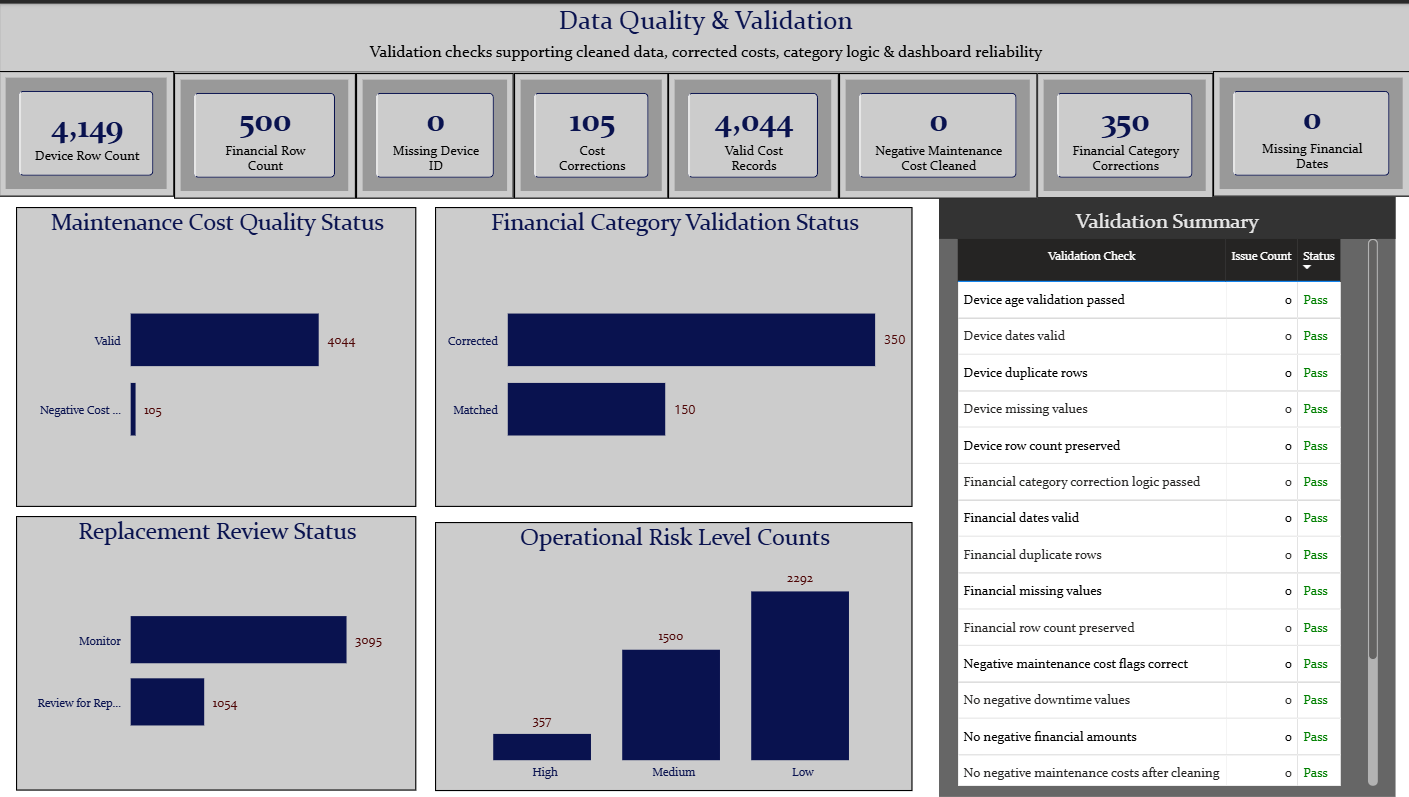

What the dashboard file says about the page in this screenshot:
{"tool":"powerbi","page":{"name":"Data Quality & Validation","canvas":[1280,720],"ordinal":3},"visuals":[{"type":"textbox","title":"Data Quality & Validation","box":[0,0,1280,62.7],"z":0},{"type":"cardVisual","fields":{"Data":["Measures Table.Device Row Count Display"]},"box":[0,62,158.6,113.9],"z":1000},{"type":"cardVisual","fields":{"Data":["Measures Table.Negative Cost Correction"]},"box":[466.7,63,140.3,113.9],"z":2000},{"type":"cardVisual","fields":{"Data":["Measures Table.Financial Row Count Display"]},"box":[158.6,63,164.7,113.9],"z":3000},{"type":"cardVisual","fields":{"Data":["Measures Table.Financial Category Corrections"]},"box":[941.4,63,159.6,113.9],"z":4000},{"type":"clusteredBarChart","title":"Replacement Review Status","fields":{"Y":["CountNonNull(medical_device_failure_cleaned.device_id)"],"Category":["medical_device_failure_cleaned.replacement_review_flag"]},"box":[15.3,465.6,363,249.1],"z":6000},{"type":"tableEx","title":"Validation Summary","fields":{"Values":["validation_summary.Validation_Check","Sum(validation_summary.Issue_Count)","validation_summary.Status"]},"box":[852,175.9,413.8,543.9],"z":8000},{"type":"cardVisual","fields":{"Data":["Measures Table.Missing Financial Dates"]},"box":[1101.1,62,178.9,113.9],"z":8001},{"type":"cardVisual","fields":{"Data":["Measures Table.Missing Device ID"]},"box":[323.3,63,143.4,113.9],"z":8002},{"type":"clusteredBarChart","title":"Maintenance Cost Quality Status","fields":{"Y":["Count(medical_device_failure_cleaned.device_id)"],"Category":["medical_device_failure_cleaned.maintenance_cost_quality_flag"]},"box":[15.3,185,363,272.5],"z":8003},{"type":"clusteredBarChart","title":"Financial Category Validation Status","fields":{"Y":["CountNonNull(financial_data_cleaned.date)"],"Category":["financial_data_cleaned.expense_category_validation_flag"]},"box":[395.5,185,433.1,272.5],"z":8004},{"type":"columnChart","title":"Operational Risk Level Counts","fields":{"Category":["medical_device_failure_cleaned.operational_risk_level"],"Y":["CountNonNull(medical_device_failure_cleaned.device_id)"]},"box":[395.5,470.7,433.1,244],"z":8005},{"type":"cardVisual","fields":{"Data":["Measures Table.Valid Cost Records Display"]},"box":[607,63,154.5,113.9],"z":8006},{"type":"cardVisual","fields":{"Data":["Measures Table.Negative Maintenance Cost Cleaned"]},"box":[761.5,63,180,113.9],"z":8007}]}

Visuals, with their boxes in screenshot pixels (x1, y1, x2, y2), scaled from the page's 1280x720 canvas onto the 1409x797 screenshot:
"Data Quality & Validation" textbox: Rect(0, 0, 1408, 69)
cardVisual - Measures Table.Device Row Count Display: Rect(0, 69, 175, 195)
cardVisual - Measures Table.Negative Cost Correction: Rect(514, 70, 668, 196)
cardVisual - Measures Table.Financial Row Count Display: Rect(175, 70, 356, 196)
cardVisual - Measures Table.Financial Category Corrections: Rect(1036, 70, 1212, 196)
"Replacement Review Status" clusteredBarChart: Rect(17, 515, 416, 791)
"Validation Summary" tableEx: Rect(938, 195, 1393, 796)
cardVisual - Measures Table.Missing Financial Dates: Rect(1212, 69, 1408, 195)
cardVisual - Measures Table.Missing Device ID: Rect(356, 70, 514, 196)
"Maintenance Cost Quality Status" clusteredBarChart: Rect(17, 205, 416, 506)
"Financial Category Validation Status" clusteredBarChart: Rect(435, 205, 912, 506)
"Operational Risk Level Counts" columnChart: Rect(435, 521, 912, 791)
cardVisual - Measures Table.Valid Cost Records Display: Rect(668, 70, 838, 196)
cardVisual - Measures Table.Negative Maintenance Cost Cleaned: Rect(838, 70, 1036, 196)
